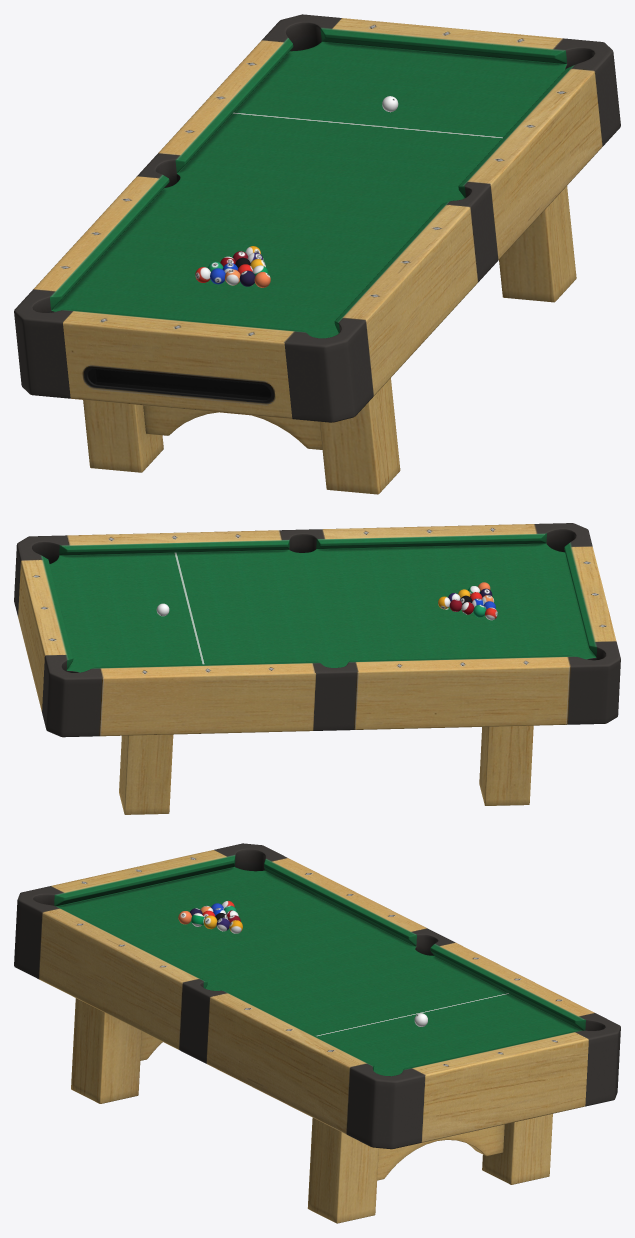
The picture shows the model from 3 angles, top to bottom: view 1: azimuth 30°, elevation 25°; view 2: azimuth 150°, elevation 25°; view 3: azimuth 270°, elevation 25°; orthographic projection. The views are drawn at different scales.
Parts seen in each view (by area): view 1: 10523_Pool_Table_v1_SG; view 2: 10523_Pool_Table_v1_SG; view 3: 10523_Pool_Table_v1_SG.
Part boxes in pixels (bbox=[...]): 10523_Pool_Table_v1_SG: bbox=[14, 14, 620, 494]; 10523_Pool_Table_v1_SG: bbox=[14, 523, 620, 814]; 10523_Pool_Table_v1_SG: bbox=[14, 843, 620, 1223].
Size of the model in its own units: 10.78 by 3.64 by 9.82.
